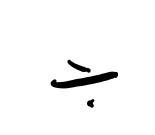div: (50, 59, 119, 106)
